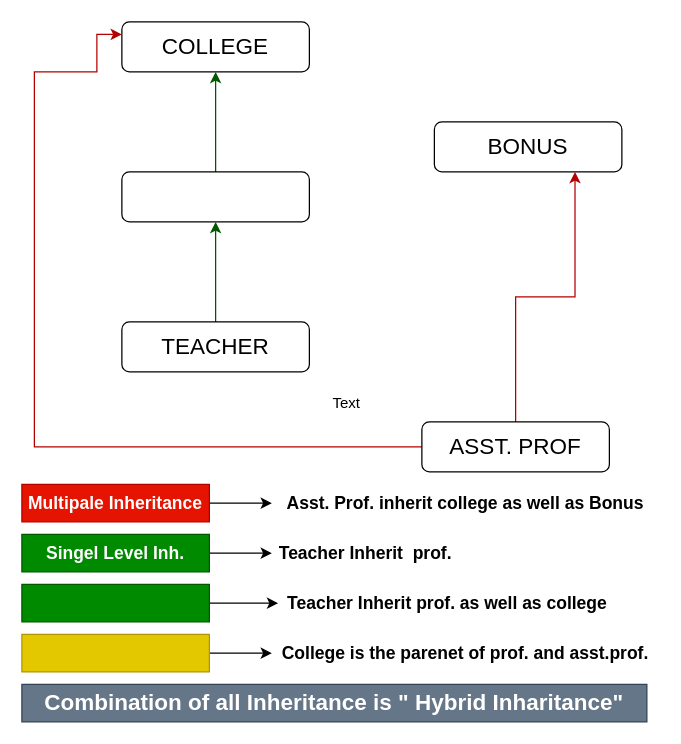
The diagram is 681 pixels wide and 744 high, and some of its shapes have lost their labels. Each missing label, with the centre of its shape:
Hierarchical Inherit.: (x=115, y=652)
Multilevel Inheritance: (x=115, y=602)
PROFESSOR: (x=215, y=196)
